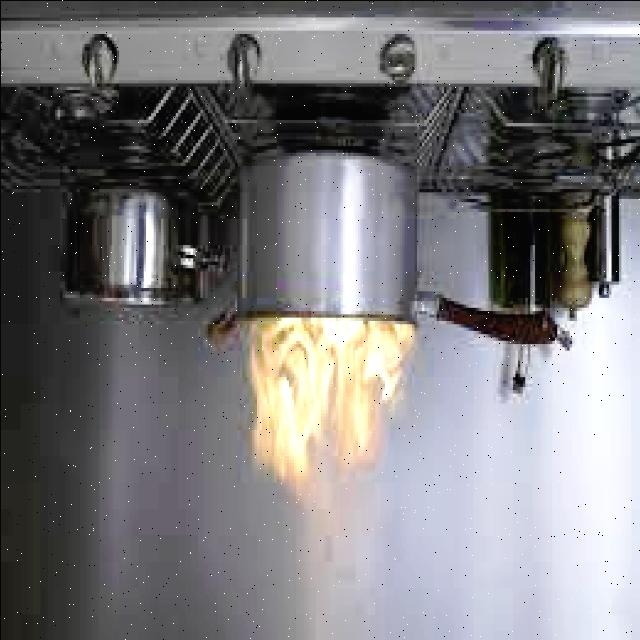api: (235, 308, 427, 492)
